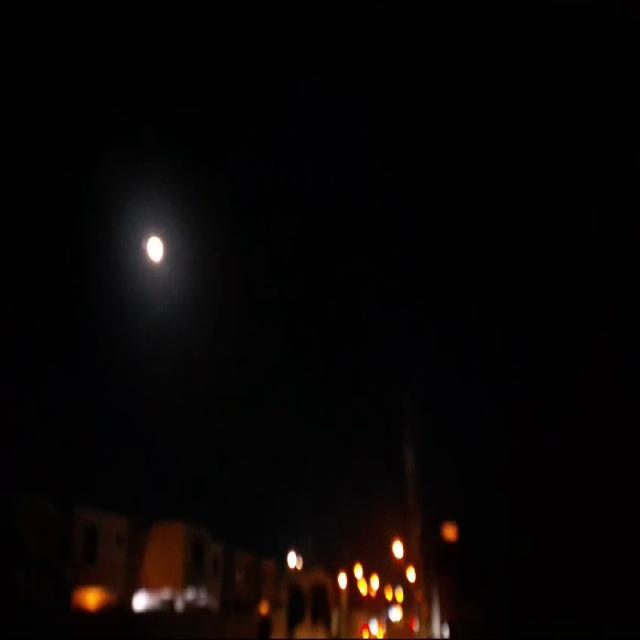moon: (141, 213, 162, 250)
